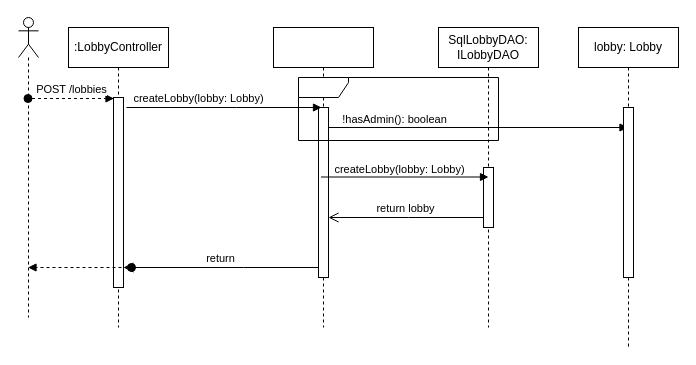
Image size: 696x365. Some labels were removed from this diagram. Each missing label, with the box of its shape:
:LobbyService: (272, 26, 374, 328)
break: (298, 76, 498, 140)
